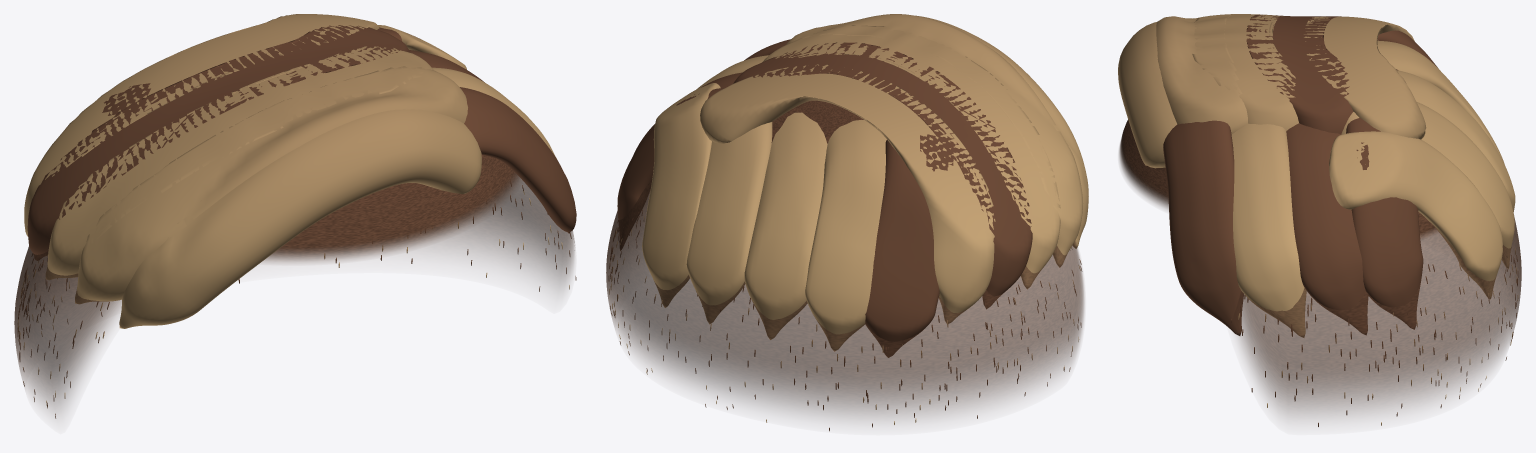
The model's file is Highlights-df66980b4aae251-hair.glb.
The picture shows the model from 3 angles, left to right: view 1: azimuth 30°, elevation 25°; view 2: azimuth 150°, elevation 25°; view 3: azimuth 270°, elevation 25°; orthographic projection. The views are drawn at different scales.
Parts seen in each view (by area): view 1: 226 hair / Hair / main251.001, 226 hair / Hair / clipped grain251.001, 226 hair / Hair / close cut strokes251.001; view 2: 226 hair / Hair / main251.001, 226 hair / Hair / clipped grain251.001, 226 hair / Hair / close cut strokes251.001; view 3: 226 hair / Hair / main251.001, 226 hair / Hair / clipped grain251.001, 226 hair / Hair / close cut strokes251.001.
Part boxes in pixels (x1,y1,x2,y2): 226 hair / Hair / main251.001: (24, 14, 576, 328); 226 hair / Hair / clipped grain251.001: (14, 155, 574, 414); 226 hair / Hair / close cut strokes251.001: (17, 181, 576, 418); 226 hair / Hair / main251.001: (617, 14, 1088, 357); 226 hair / Hair / clipped grain251.001: (606, 100, 1084, 419); 226 hair / Hair / close cut strokes251.001: (609, 210, 1082, 431); 226 hair / Hair / main251.001: (1118, 14, 1515, 337); 226 hair / Hair / clipped grain251.001: (1119, 69, 1521, 418); 226 hair / Hair / close cut strokes251.001: (1231, 248, 1518, 426).
Size of the model in its own units: 0.9812 by 0.6176 by 0.752.
Materials: 4 (1 with a texture image).
